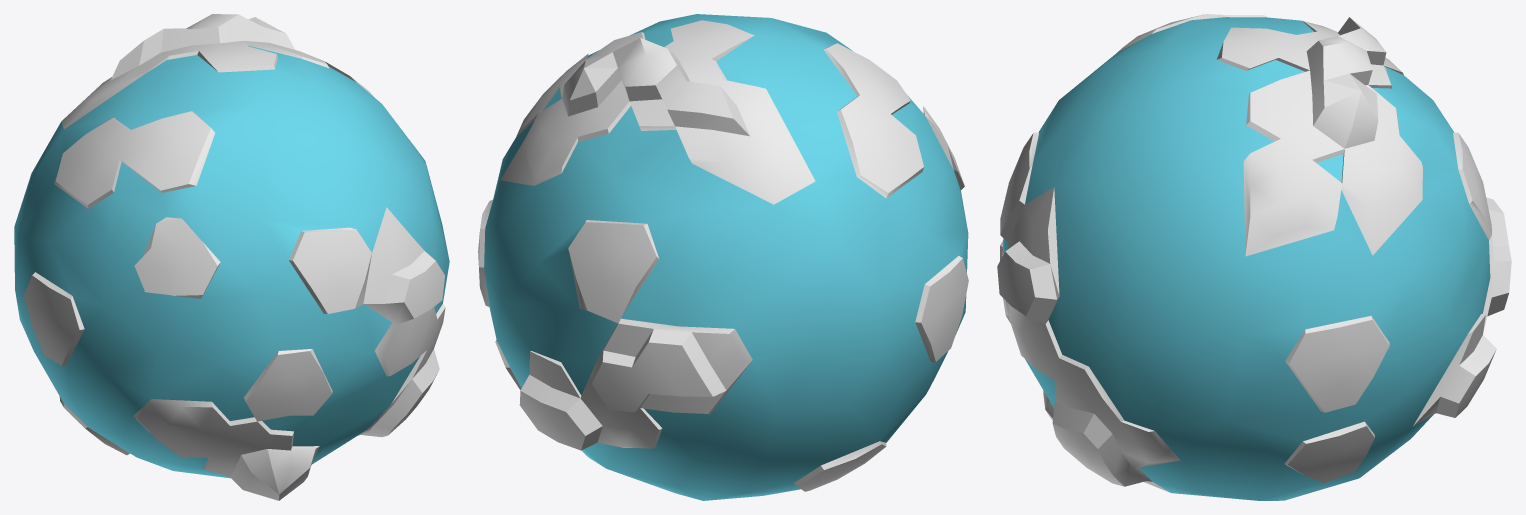
The model's file is Planeta_3.fbx.
3 renders of one model, left to right at view 1: azimuth 30°, elevation 25°; view 2: azimuth 150°, elevation 25°; view 3: azimuth 270°, elevation 25°, orthographic. The views are drawn at different scales.
Parts seen in each view (by area): view 1: Toy_Planet_4; view 2: Toy_Planet_4; view 3: Toy_Planet_4.
Boxes of the visible parts, x1,y1,x2,y2 form: Toy_Planet_4: (14, 14, 449, 500); Toy_Planet_4: (478, 14, 968, 500); Toy_Planet_4: (997, 14, 1511, 500).
Bounding box in the file's own units: 203 × 207 × 211.
